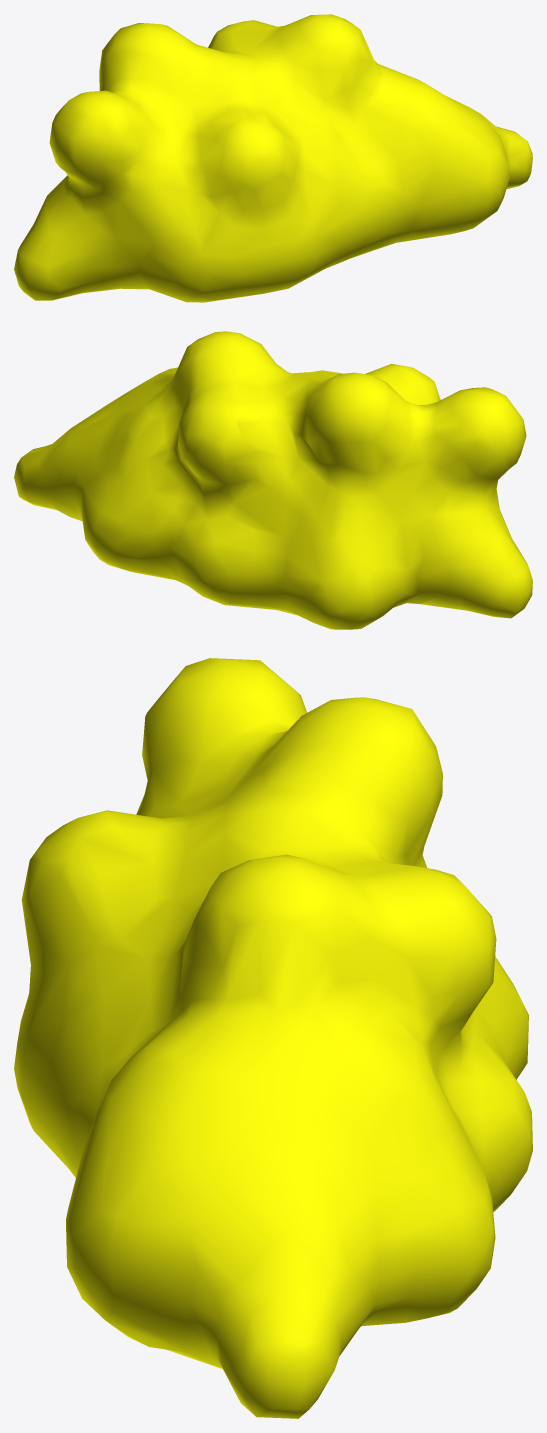
The model's file is cloud_e.glb.
3 renders of one model, top to bottom at view 1: azimuth 30°, elevation 25°; view 2: azimuth 150°, elevation 25°; view 3: azimuth 270°, elevation 25°, orthographic. The views are drawn at different scales.
Visible parts, largest first — view 1: SM_Cloud_05; view 2: SM_Cloud_05; view 3: SM_Cloud_05.
Part boxes in pixels (x1,y1,x2,y2): SM_Cloud_05: (14,14,532,302); SM_Cloud_05: (14,331,532,629); SM_Cloud_05: (14,658,532,1418).
Size of the model in its own units: 11.32 by 4.93 by 5.46.
